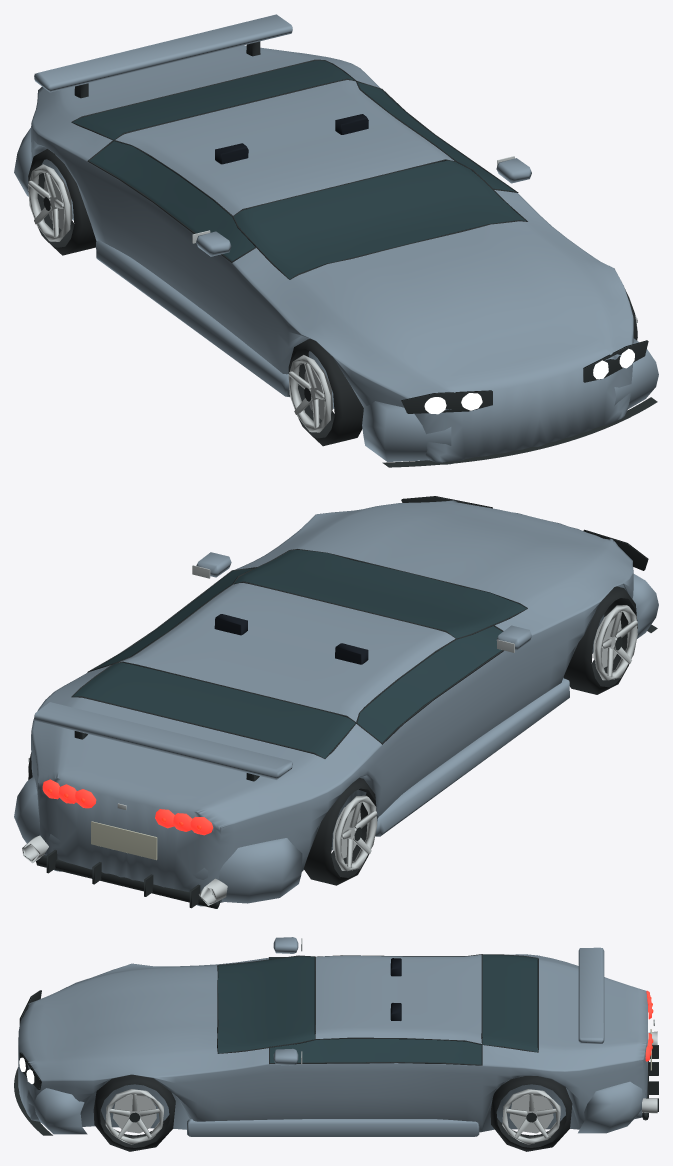
Rendered from tyvoro-selvor.glb.
3 views of the same model, one above another, from view 1: azimuth 30°, elevation 25°; view 2: azimuth 150°, elevation 25°; view 3: azimuth 270°, elevation 25° (orthographic). The views are drawn at different scales.
Visible parts, largest first — view 1: scocca, cofano, tetto, cristallo_ant, porta_sx, portellone, cristallo_post, spoiler, cristallo_sx, minigonna_sx, paraurti_ant, ruota_ant_sx_gomma (+13 smaller); view 2: scocca, tetto, cofano, portellone, cristallo_ant, cristallo_post, porta_sx, spoiler, paraurti_post, cristallo_sx, minigonna_sx, ruota_ant_sx_gomma (+13 smaller); view 3: scocca, cofano, tetto, porta_dx, cristallo_ant, portellone, cristallo_post, minigonna_dx, cristallo_dx, spoiler, paraurti_post, ruota_ant_dx_gomma (+14 smaller).
Part boxes in pixels (x1,y1,x2,y2): scocca: [31, 51, 633, 464]; cofano: [290, 221, 614, 382]; tetto: [115, 80, 453, 215]; cristallo_ant: [233, 160, 525, 279]; porta_sx: [87, 162, 247, 344]; portellone: [54, 45, 321, 121]; cristallo_post: [72, 60, 354, 139]; spoiler: [34, 14, 292, 92]; cristallo_sx: [89, 141, 254, 260]; minigonna_sx: [96, 240, 289, 397]; paraurti_ant: [362, 338, 658, 461]; ruota_ant_sx_gomma: [288, 339, 363, 446]; scocca: [31, 500, 633, 906]; tetto: [119, 583, 455, 721]; cofano: [291, 502, 614, 608]; portellone: [52, 697, 324, 815]; cristallo_ant: [234, 550, 526, 638]; cristallo_post: [73, 662, 355, 758]; porta_sx: [377, 642, 528, 818]; spoiler: [34, 702, 292, 779]; paraurti_post: [14, 776, 302, 903]; cristallo_sx: [357, 626, 502, 742]; minigonna_sx: [375, 678, 569, 836]; ruota_ant_sx_gomma: [563, 586, 637, 694]; scocca: [18, 954, 647, 1131]; cofano: [41, 965, 217, 1066]; tetto: [315, 954, 481, 1043]; porta_dx: [253, 1063, 482, 1132]; cristallo_ant: [218, 956, 314, 1053]; portellone: [538, 958, 647, 1054]; cristallo_post: [482, 954, 537, 1051]; minigonna_dx: [187, 1119, 479, 1136]; cristallo_dx: [270, 1039, 481, 1064]; spoiler: [578, 947, 604, 1043]; paraurti_post: [578, 1081, 646, 1133]; ruota_ant_dx_gomma: [93, 1074, 175, 1151].
Size of the model in its own units: 2.34 by 1.01 by 5.3.
